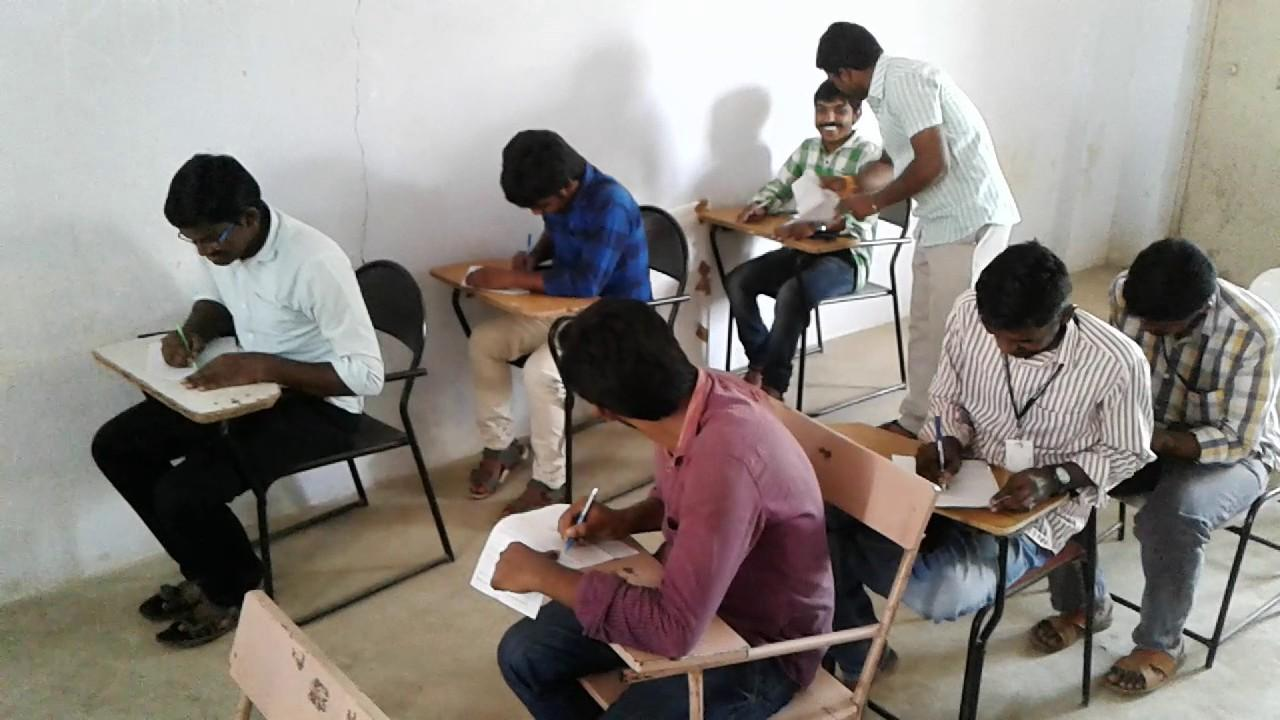invigilator: (822, 26, 1004, 401)
student: (62, 131, 379, 569), (879, 234, 1137, 513), (435, 94, 678, 360), (1083, 214, 1280, 518)
studentcopying: (458, 287, 839, 661)
